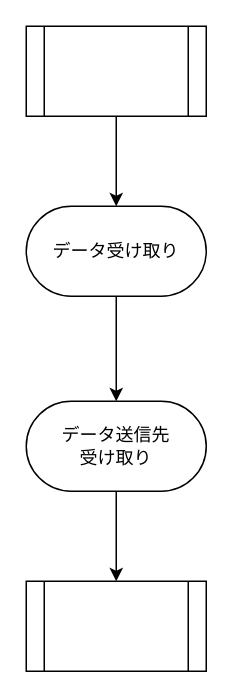
The diagram is 233 pixels wide and 698 high, and some of its shapes have lost their labels. The centre of each missing label's shape, as x and y in pixels:
"データ送信 (blade) (終了)" goes at pixel 115 625.
"データ送信 (blade) (開始)" goes at pixel 115 70.
